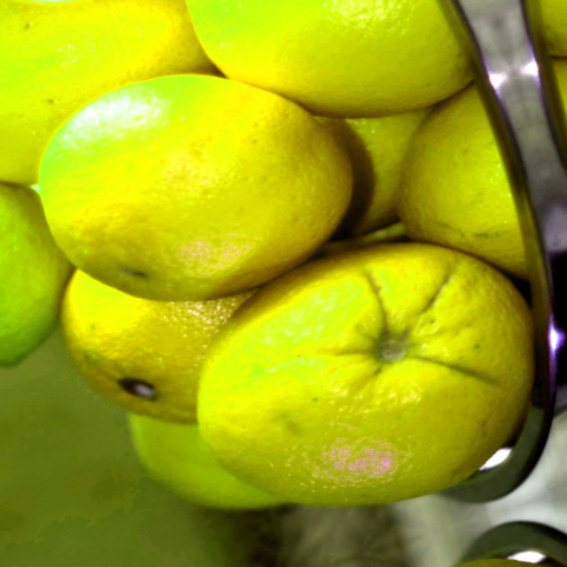orange: (150, 191, 567, 567), (0, 19, 398, 382)
